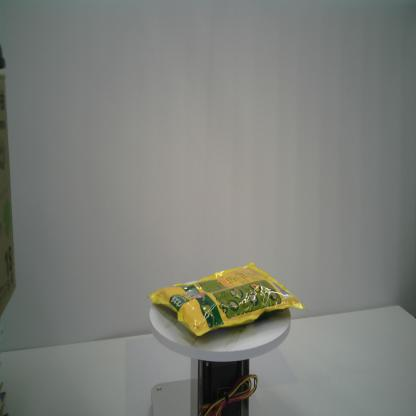Seasoner: (145, 260, 305, 337)
